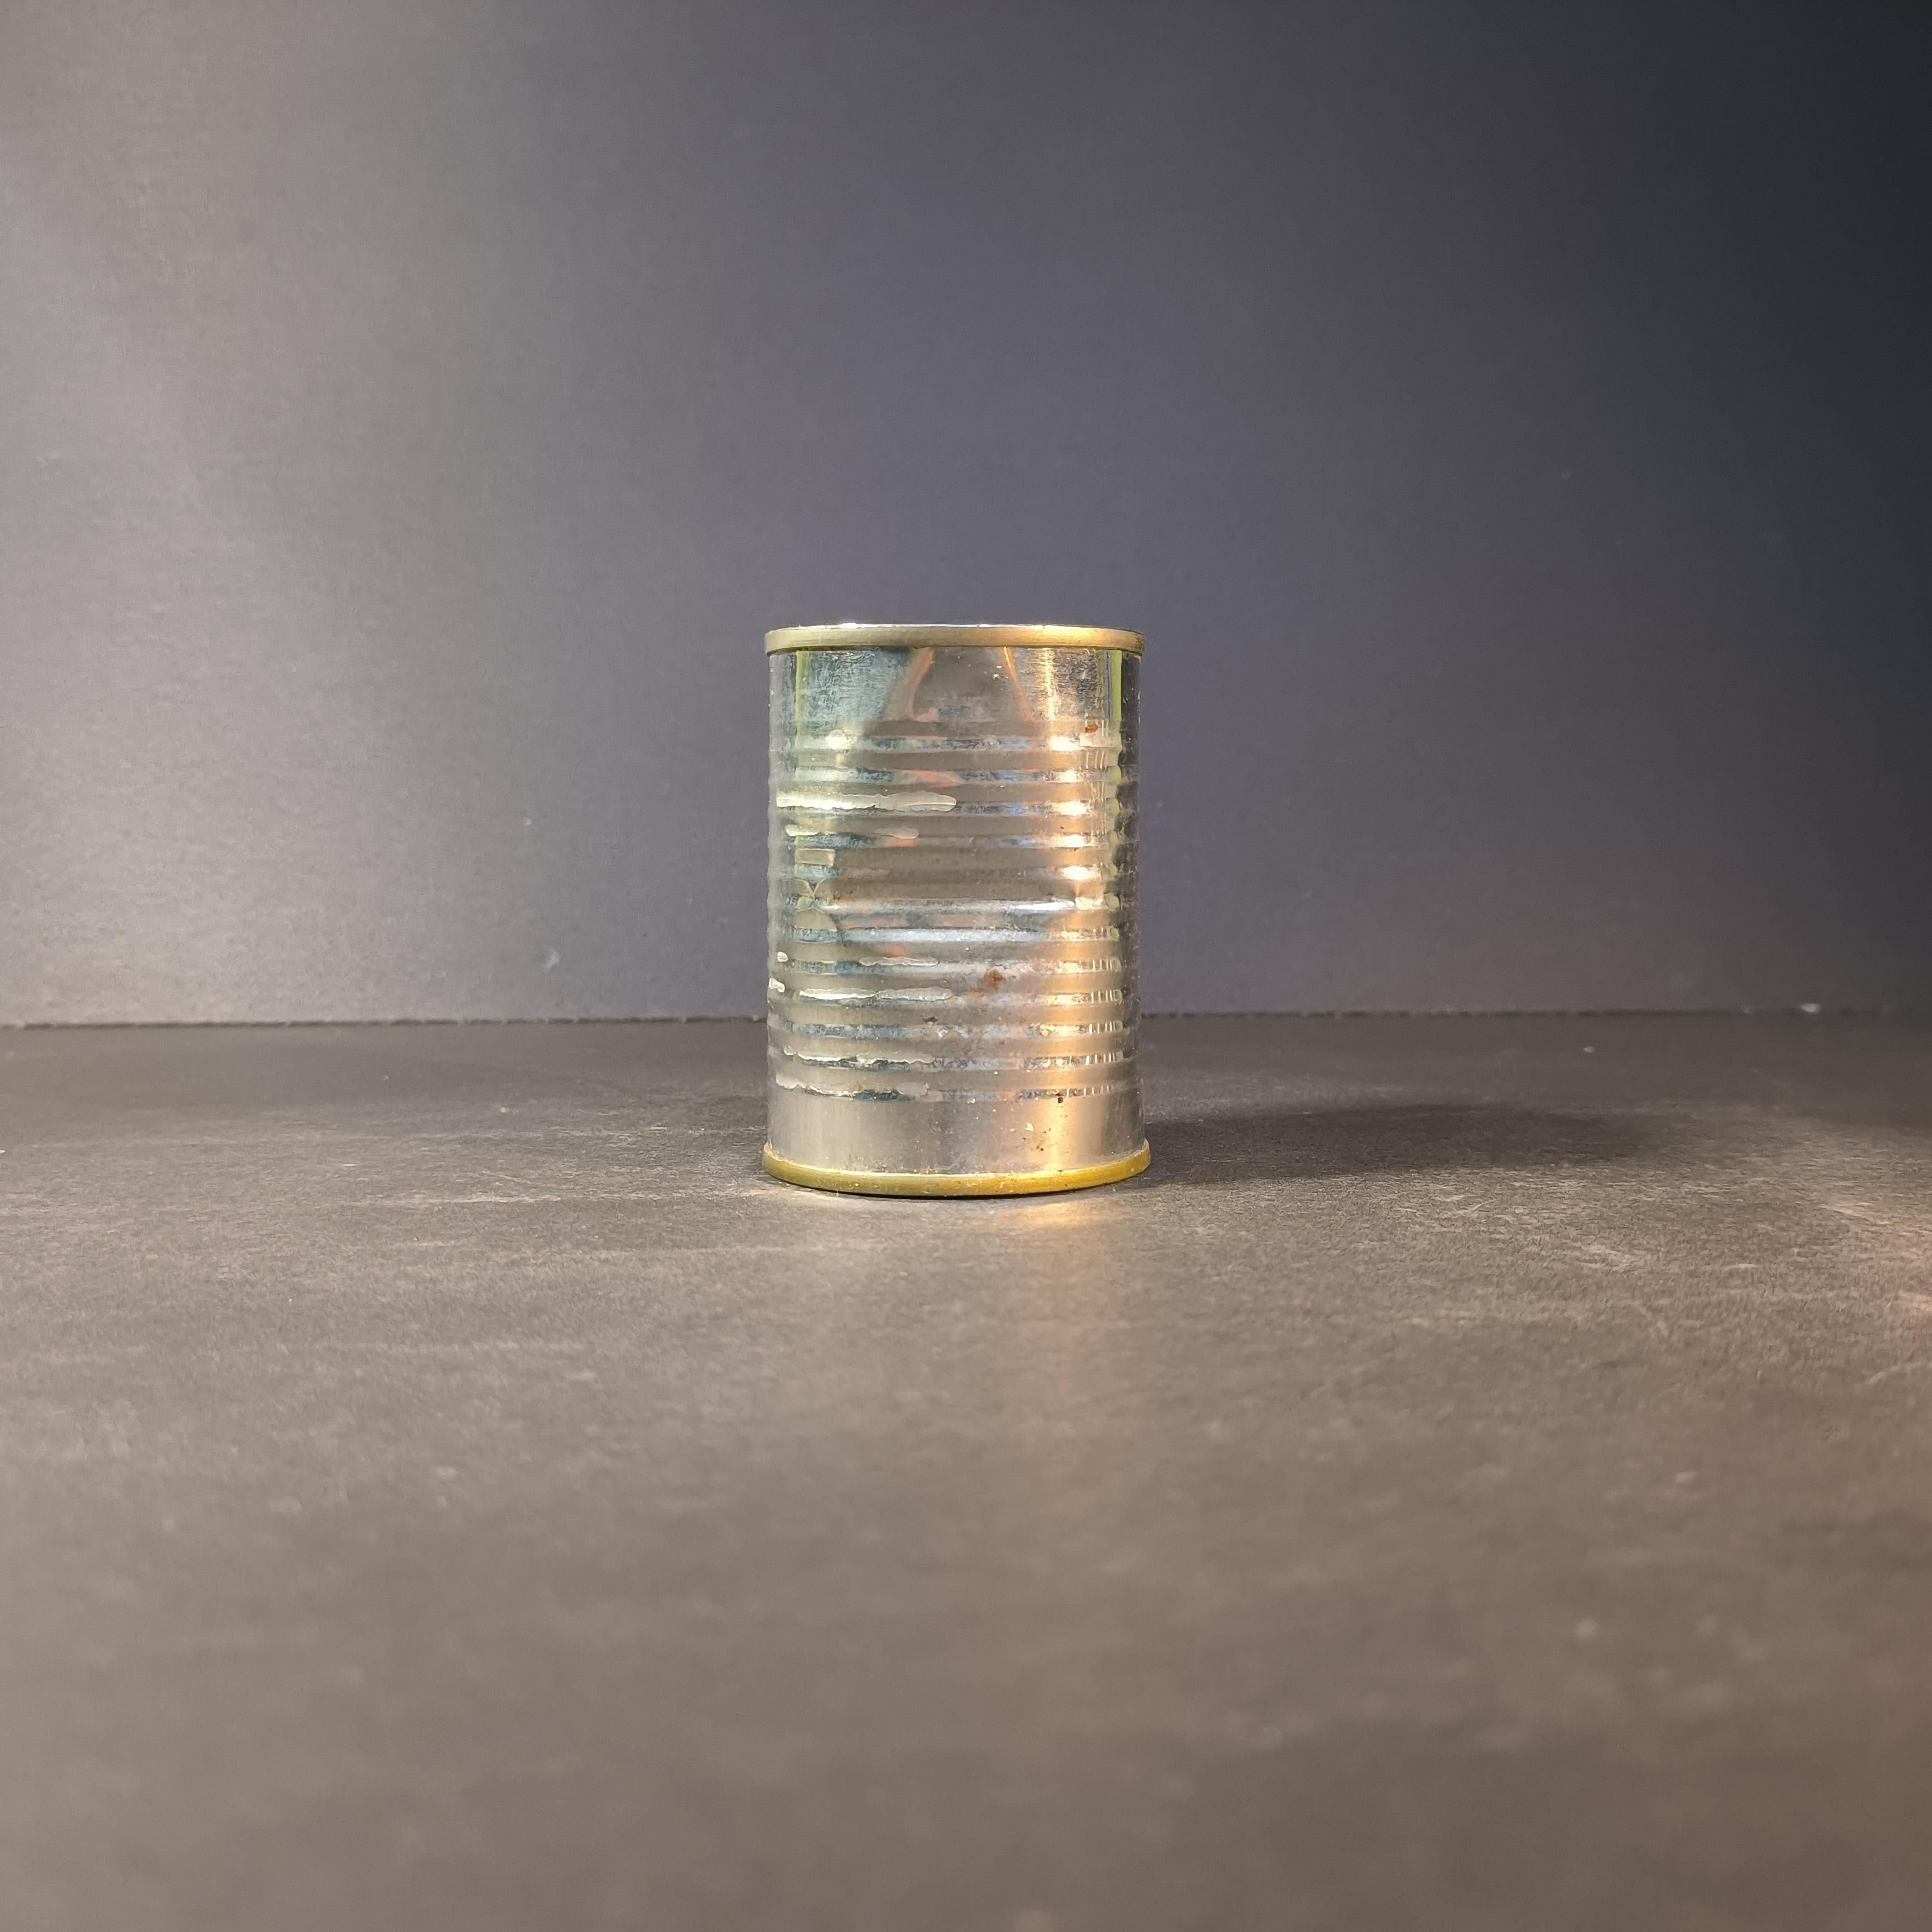Dented: (738, 593, 1161, 1207)
